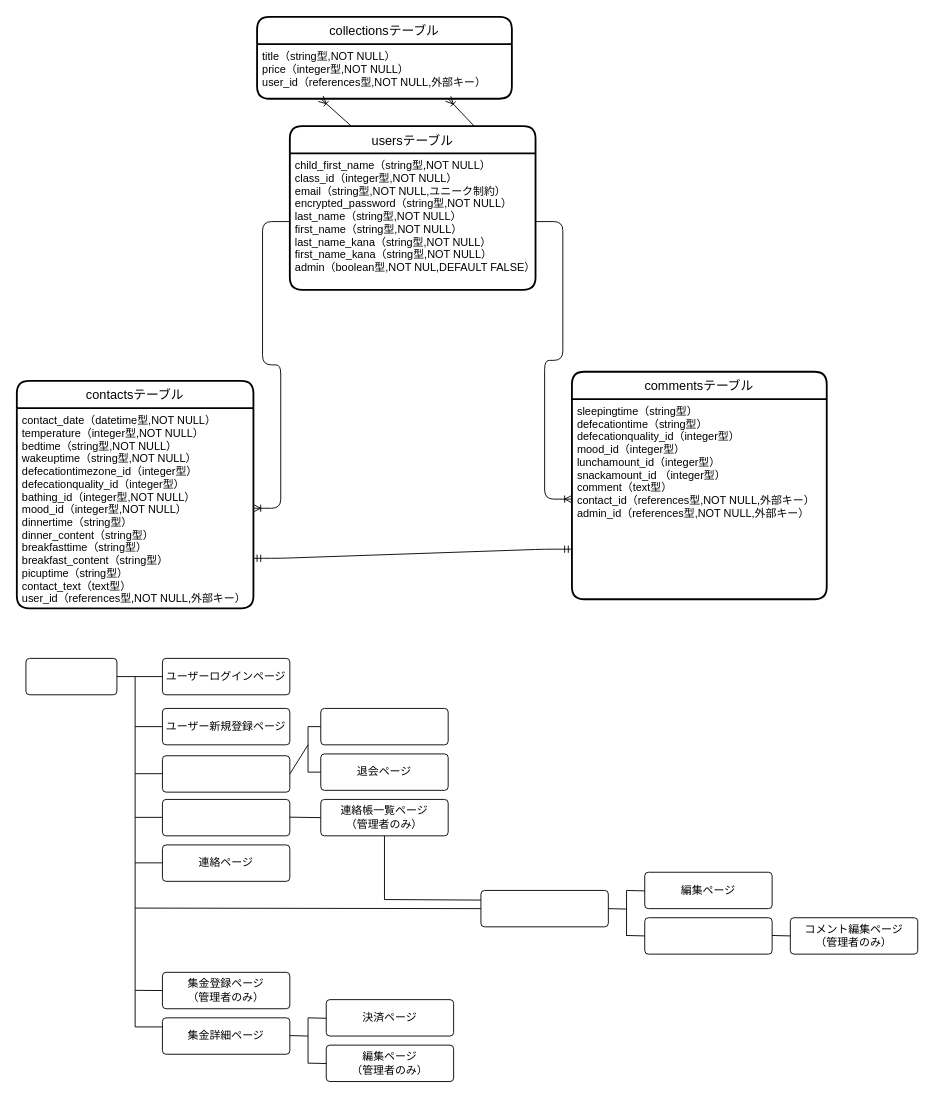
The diagram is 934 pixels wide and 1097 high, and some of its shapes have lost their labels. Here are the shapes that lost their labels. From the top down, the centre of each, then its label:
point (71, 676): 一覧ページ
point (384, 726): ユーザー情報編集ページ
point (226, 773): ユーザーマイページ
point (226, 817): ユーザ一覧ページ （管理者のみ）
point (544, 908): 連絡帳詳細ページ コメント詳細ページ
point (708, 935): コメントページ （管理者のみ）
